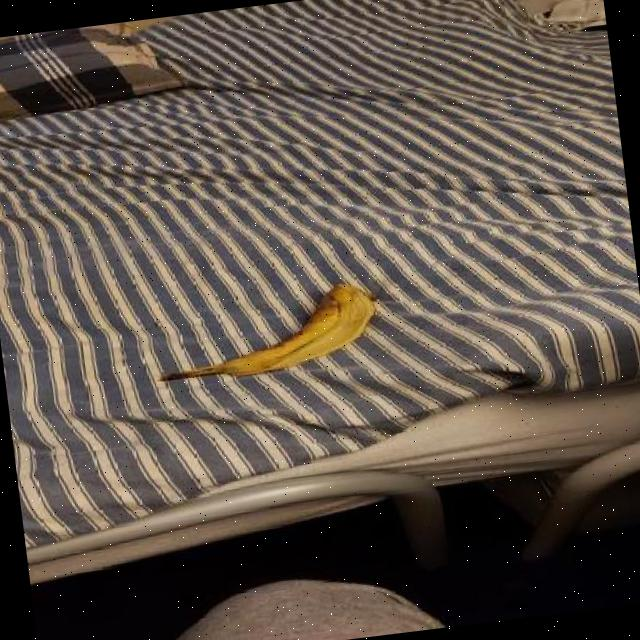banana-peel: (148, 276, 382, 386)
